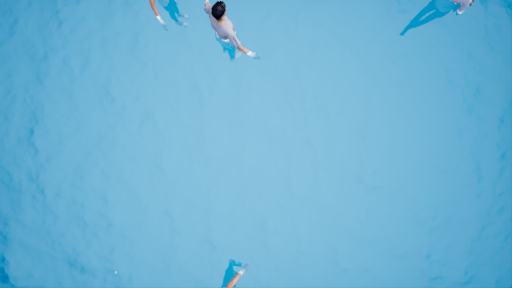person: (200, 1, 267, 68), (391, 1, 487, 37), (214, 247, 254, 288), (144, 1, 192, 35)
